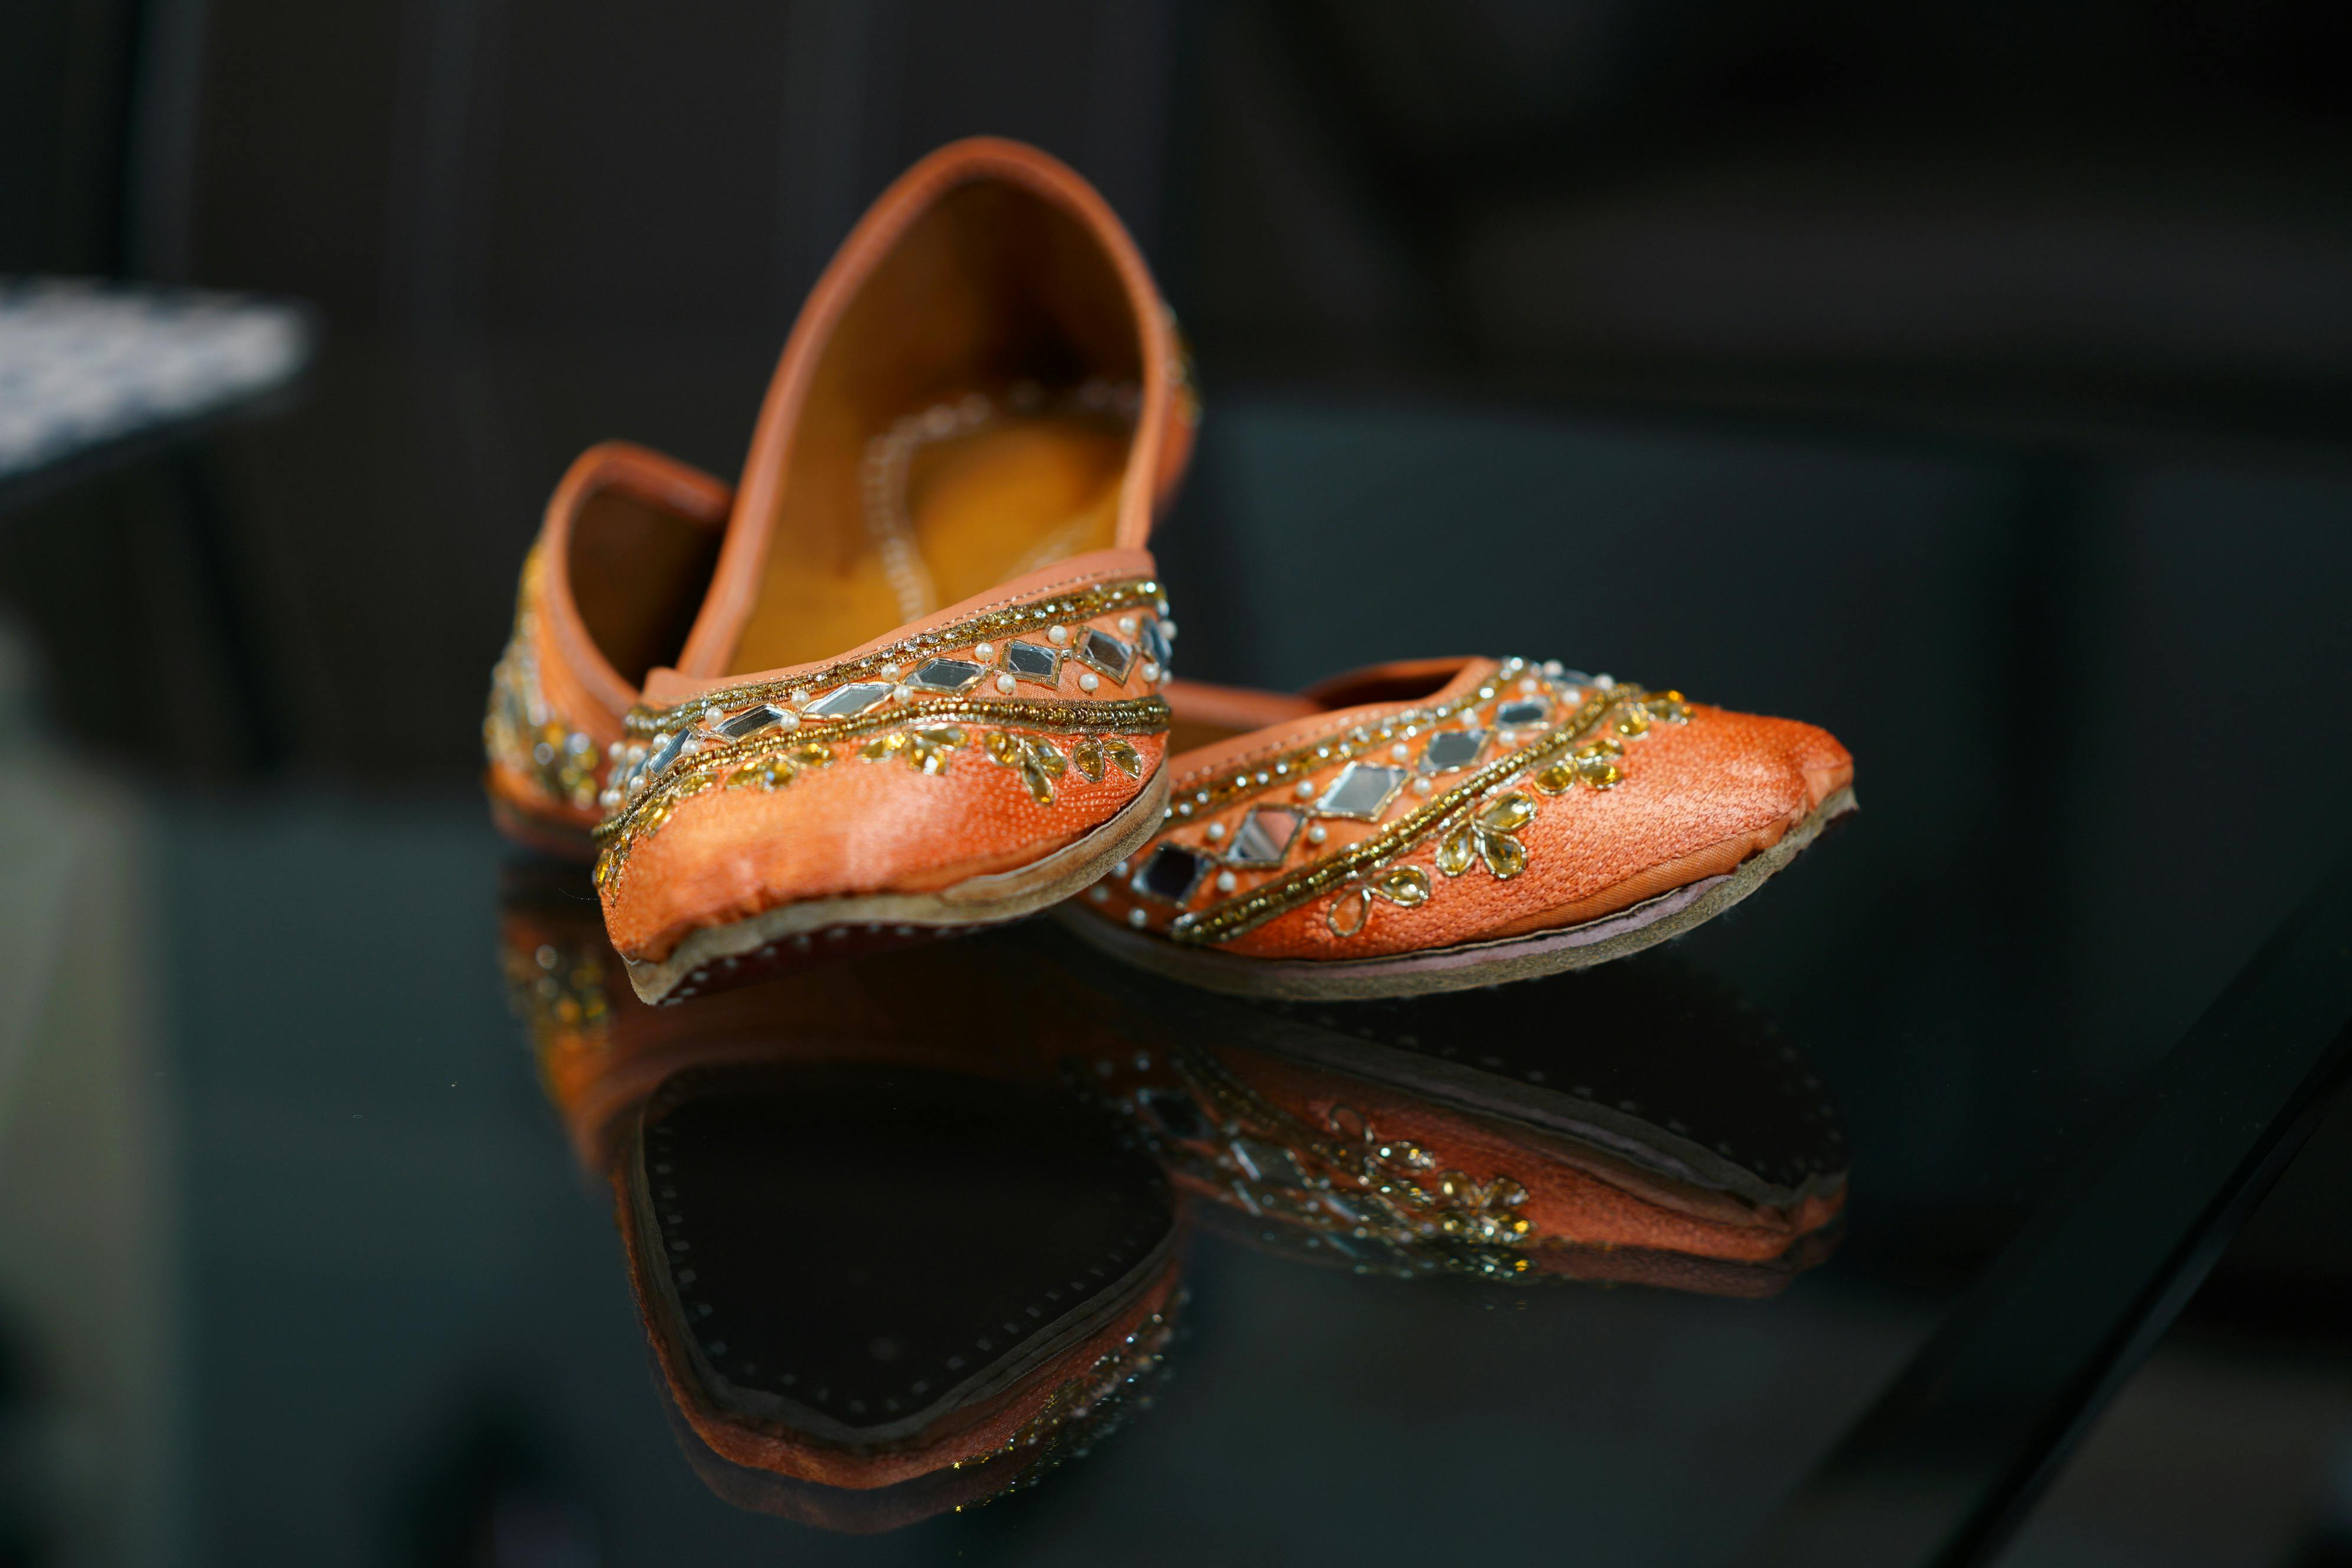Footwear: (395, 142, 1913, 955)
